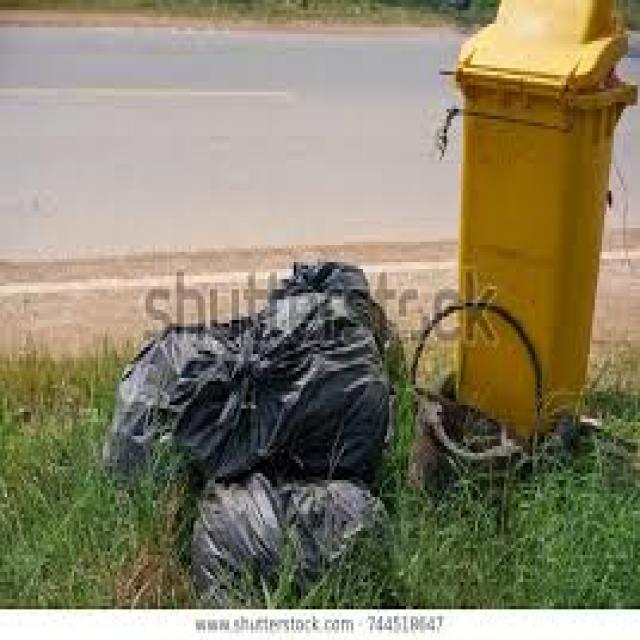garbage: (110, 334, 387, 596), (406, 292, 638, 518), (296, 252, 392, 300)
